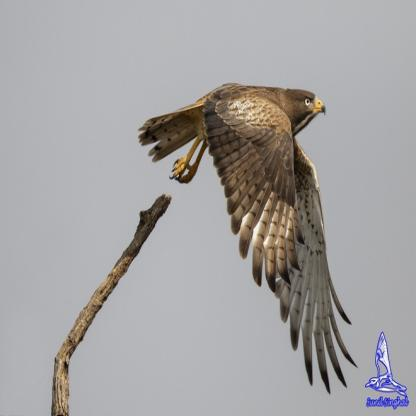Burung: (133, 80, 355, 388)
